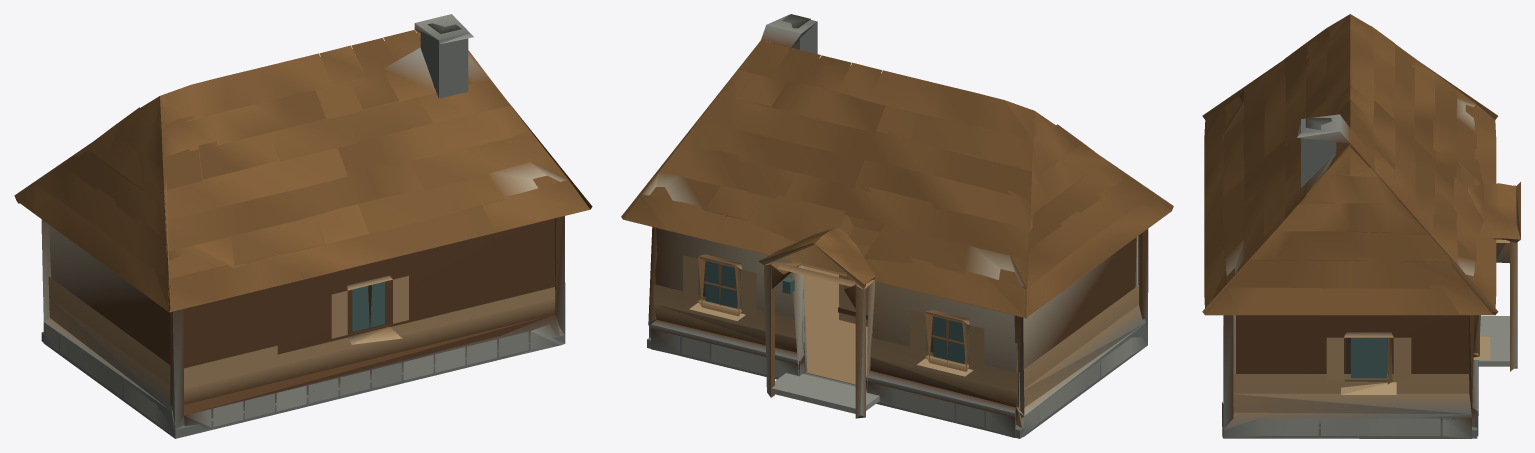
File: LongCabin.glb
3 renders of one model, left to right at view 1: azimuth 30°, elevation 25°; view 2: azimuth 150°, elevation 25°; view 3: azimuth 270°, elevation 25°, orthographic. The views are drawn at different scales.
Parts seen in each view (by area): view 1: LongCabin_Body_P0_LOD1, HouseGlass_P0_LOD1; view 2: LongCabin_Body_P0_LOD1, HouseGlass_P0_LOD1, HouseDoor_P0_LOD1; view 3: LongCabin_Body_P0_LOD1, HouseGlass_P0_LOD1.
Part boxes in pixels (left/top/right/bottom): LongCabin_Body_P0_LOD1: left=14, top=14, right=592, bottom=438; HouseGlass_P0_LOD1: left=352, top=281, right=384, bottom=331; LongCabin_Body_P0_LOD1: left=621, top=14, right=1173, bottom=438; HouseGlass_P0_LOD1: left=705, top=261, right=964, bottom=363; HouseDoor_P0_LOD1: left=838, top=274, right=874, bottom=326; LongCabin_Body_P0_LOD1: left=1202, top=14, right=1520, bottom=438; HouseGlass_P0_LOD1: left=1351, top=337, right=1386, bottom=378.
Bounding box in the file's own units: 7.99 × 5.38 × 5.49.
